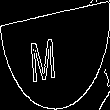M_N: (40, 27, 70, 83)
